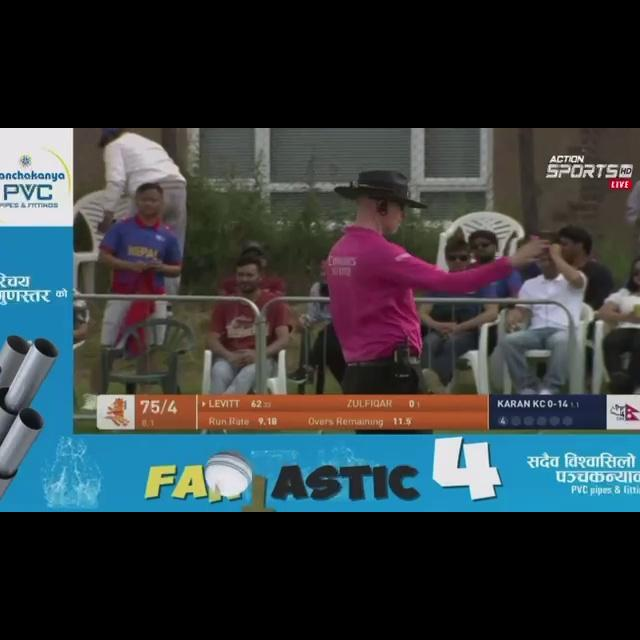umpire: (299, 152, 603, 399)
